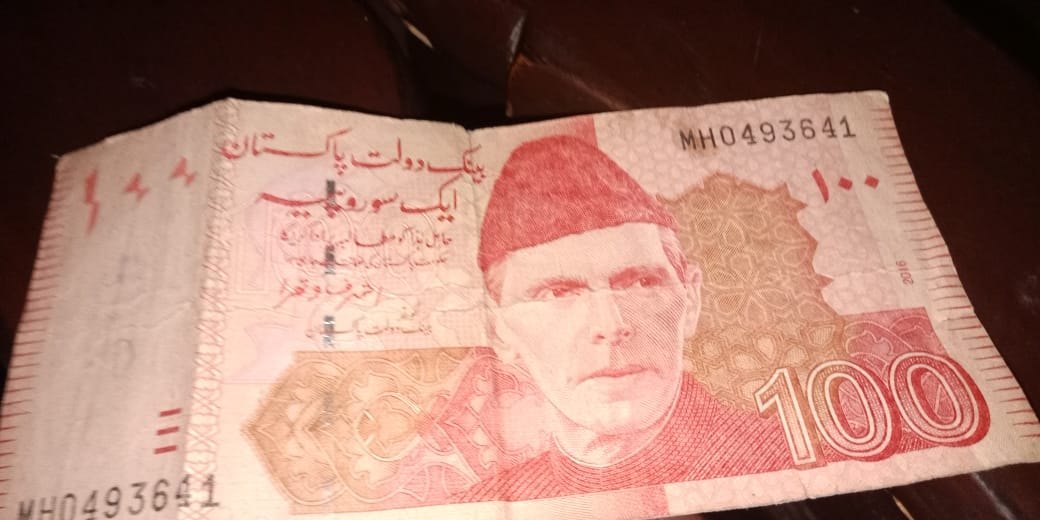100 rupee: (29, 51, 1032, 520)
